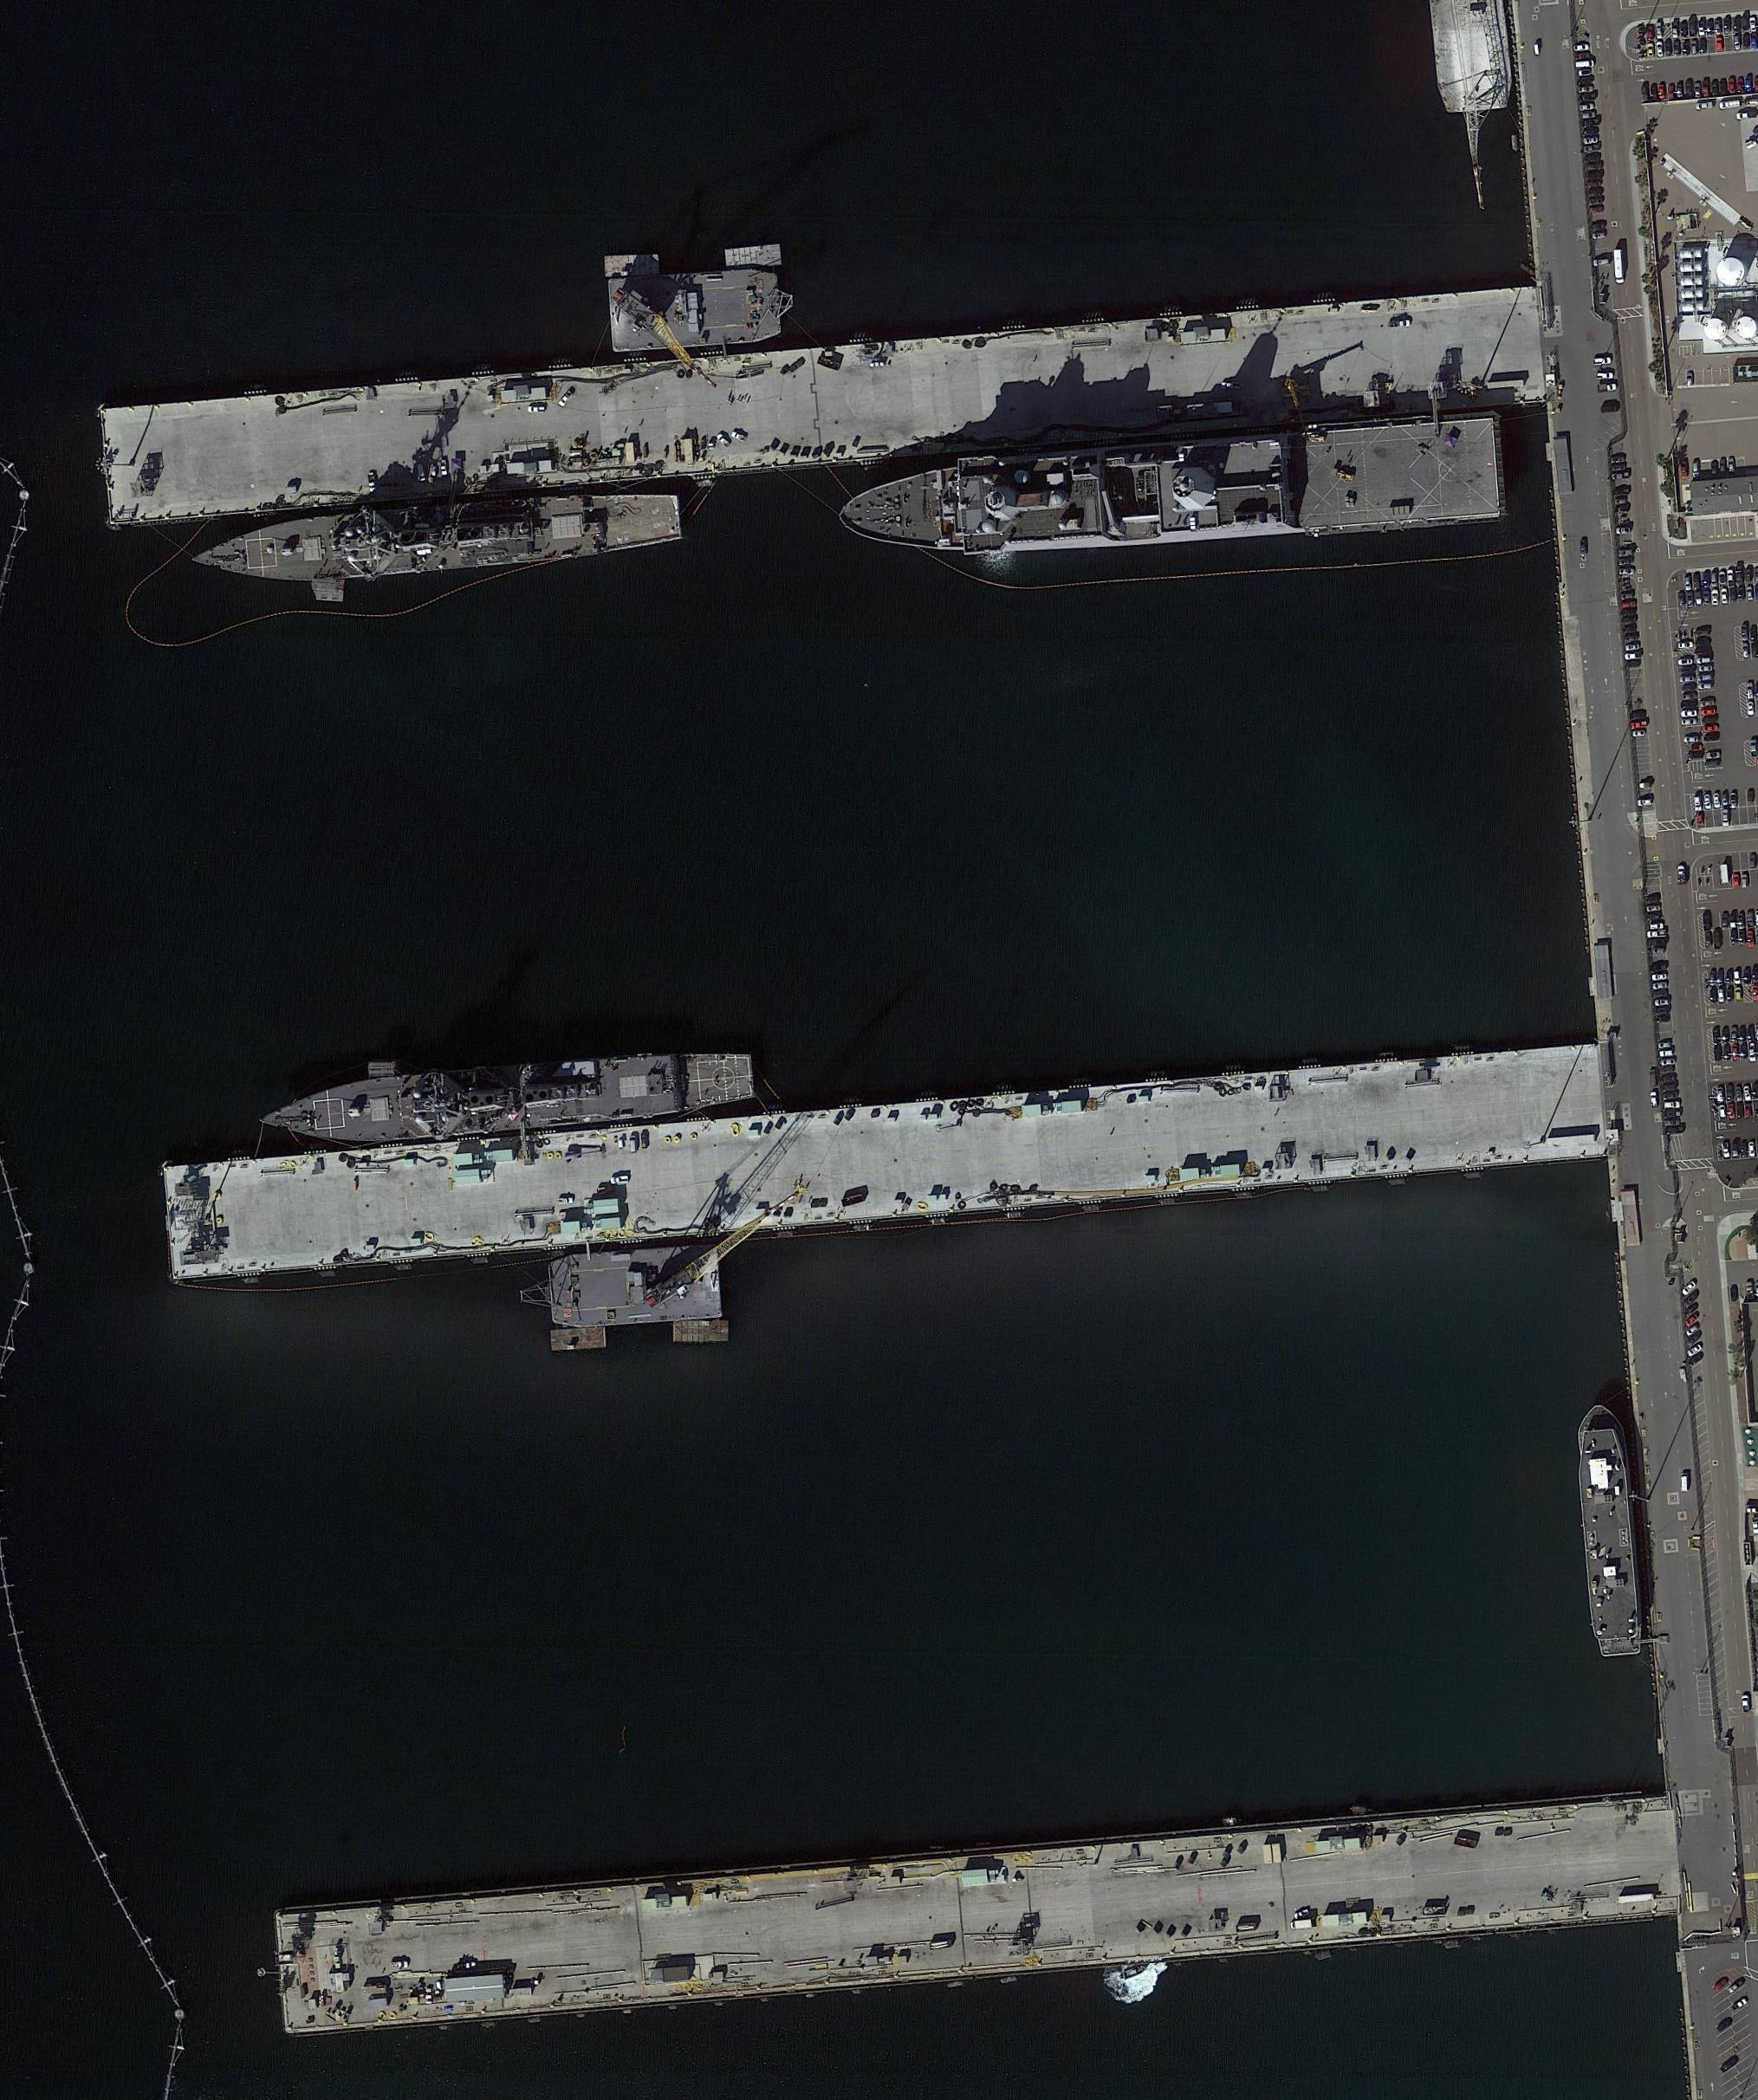harbor: (101, 279, 1547, 531), (165, 1039, 1607, 1282), (275, 1789, 1675, 2033)
ship: (836, 416, 1502, 567), (188, 485, 684, 601), (256, 1044, 756, 1152), (1571, 1403, 1644, 1658)
